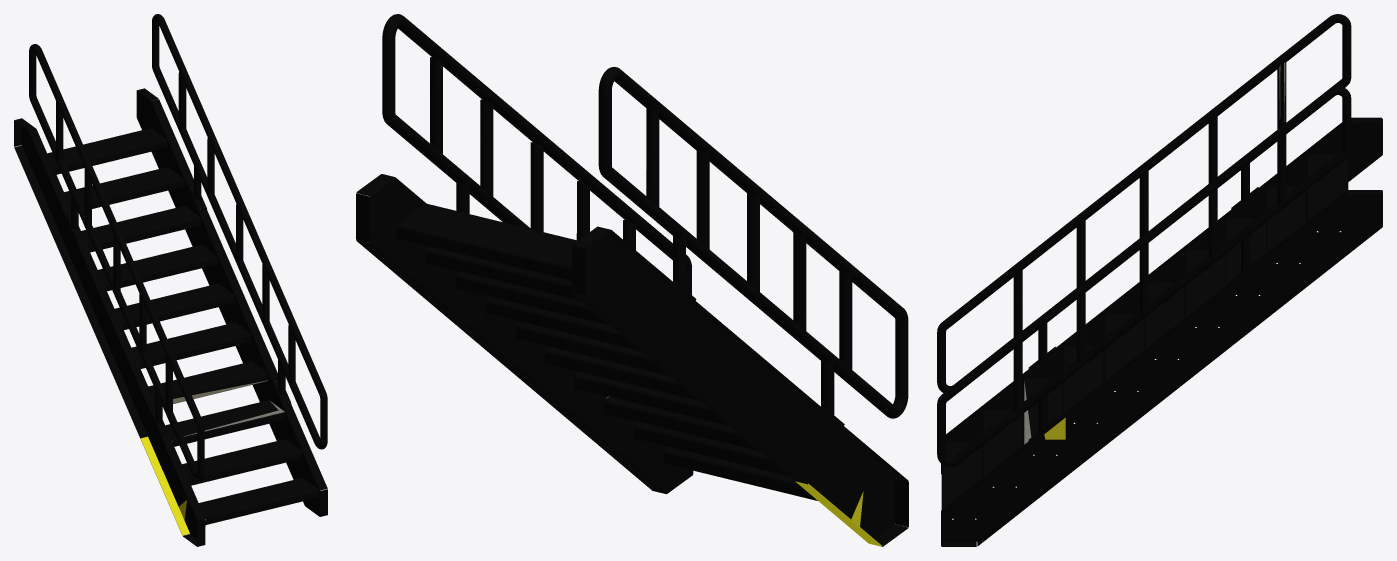
File: Escadas.glb
The picture shows the model from 3 angles, left to right: view 1: azimuth 30°, elevation 25°; view 2: azimuth 150°, elevation 25°; view 3: azimuth 270°, elevation 25°; orthographic projection. The views are drawn at different scales.
Visible parts, largest first — view 1: node_id3; view 2: node_id3; view 3: node_id3.
Part boxes in pixels (x1,y1,x2,y2): node_id3: [14, 14, 327, 546]; node_id3: [356, 14, 908, 546]; node_id3: [937, 14, 1382, 546].
Size of the model in its own units: 0.1834 by 0.512 by 0.4514.
Materials: 1 (1 with a texture image).
